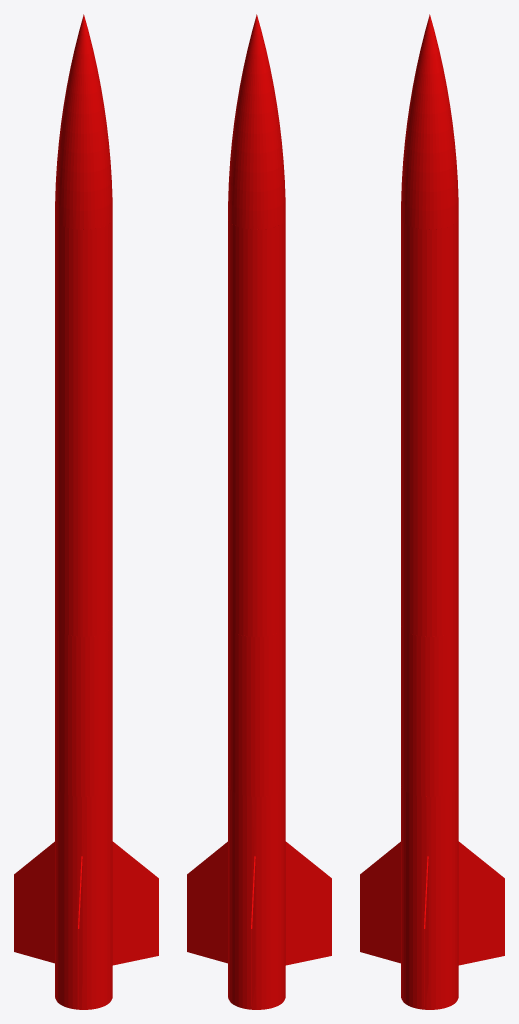
Rendered from vehicle.glb.
3 renders of one model, left to right at view 1: azimuth 30°, elevation 25°; view 2: azimuth 150°, elevation 25°; view 3: azimuth 270°, elevation 25°, orthographic.
Parts seen in each view (by area): view 1: vehicle; view 2: vehicle; view 3: vehicle.
Part boxes in pixels (x1=…): vehicle: x1=14, y1=14, x2=158, y2=1009; vehicle: x1=187, y1=14, x2=331, y2=1009; vehicle: x1=360, y1=14, x2=504, y2=1009.
Size of the model in its own units: 0.891 by 7.44 by 0.9923.
